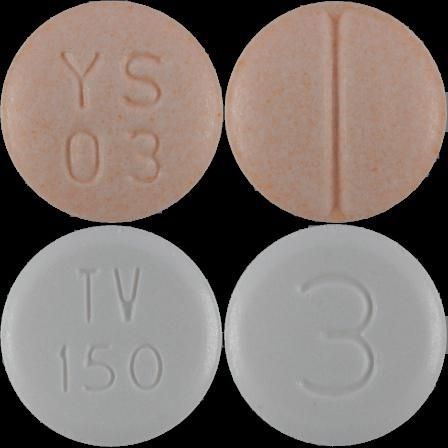61442-323: (0, 0, 224, 224)
